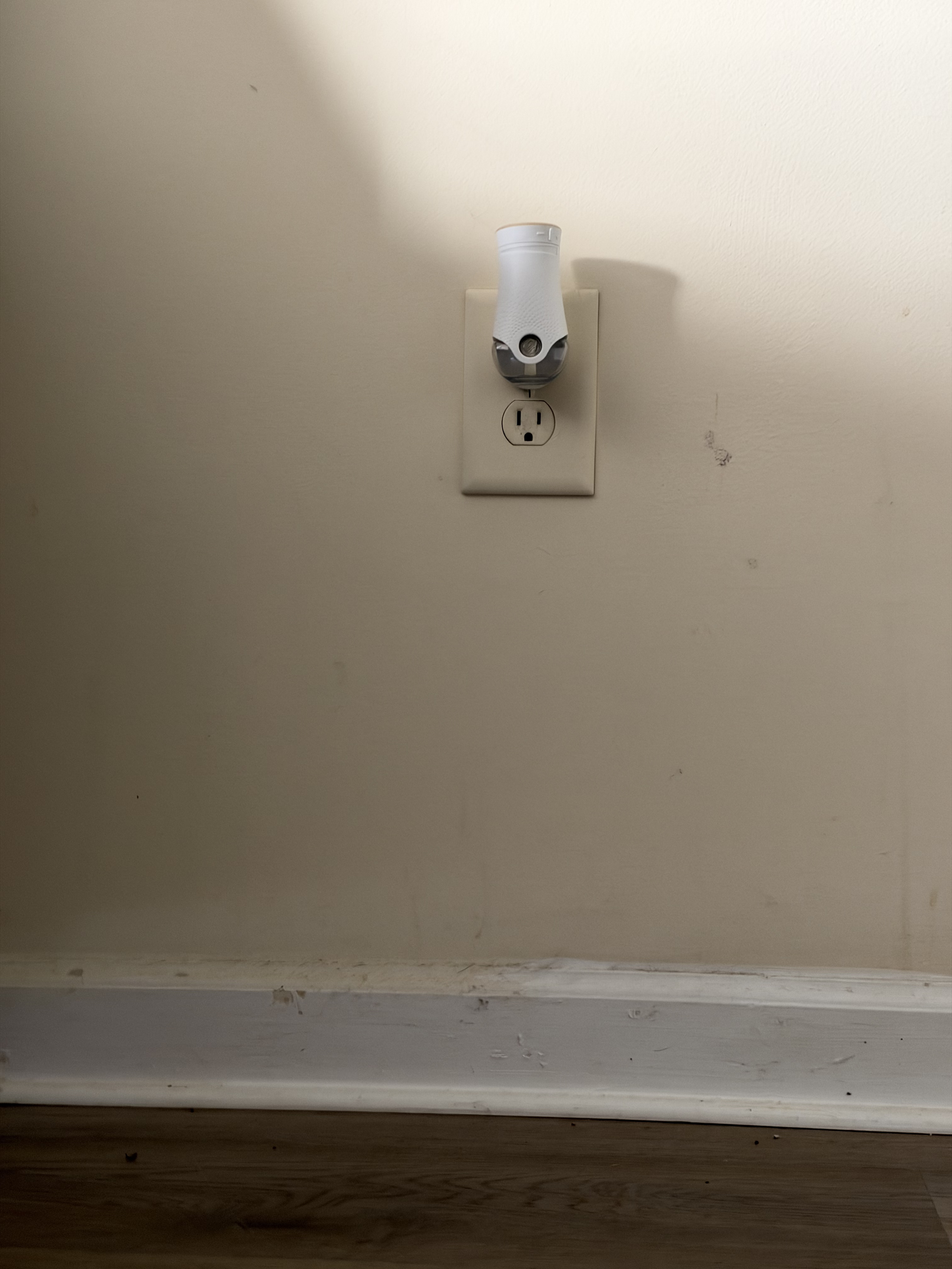outlet: (465, 284, 599, 494)
